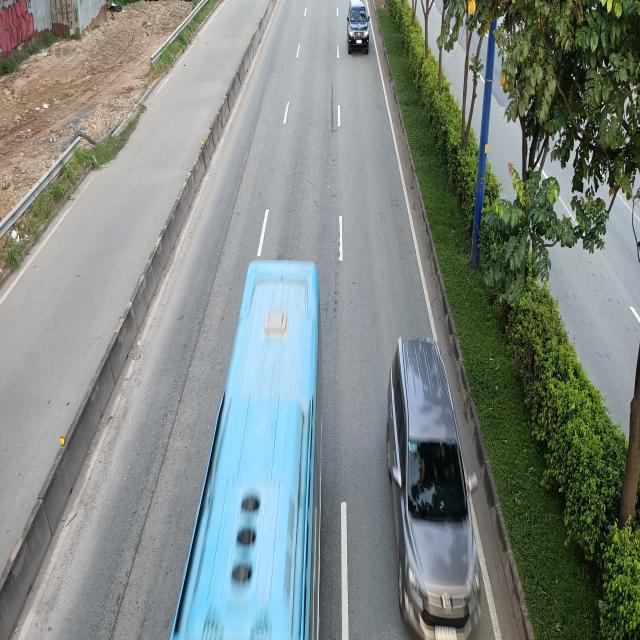car: (386, 333, 484, 633), (346, 0, 371, 52)
coach: (167, 260, 320, 640)
